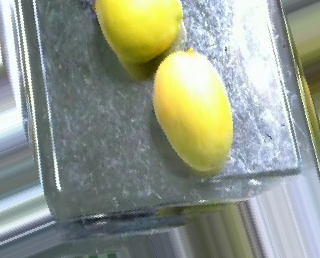Mango: (148, 49, 232, 167), (88, 0, 184, 61)
